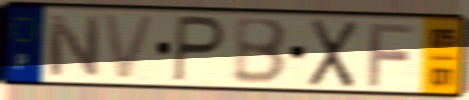B: (232, 16, 290, 87)
F: (365, 21, 420, 89)
N: (45, 12, 102, 79)
P: (170, 12, 229, 85)
V: (100, 12, 160, 83)
X: (306, 16, 361, 91)
